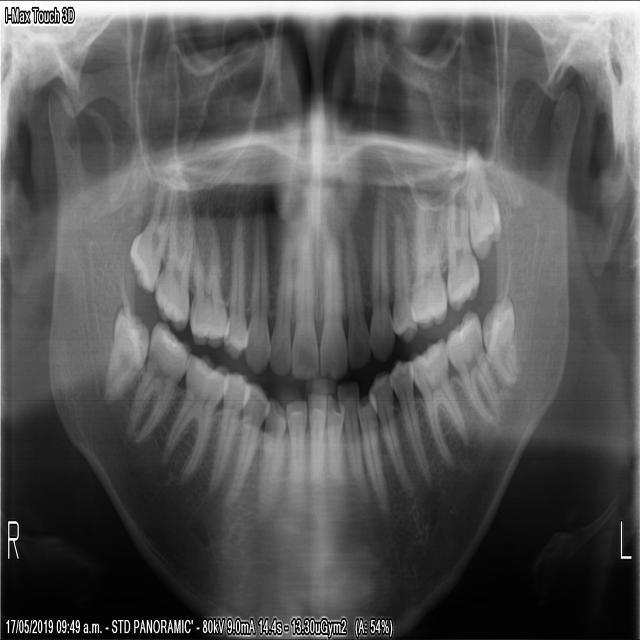LCD: (353, 388, 390, 523)
LCU: (366, 185, 397, 364)
LID: (334, 373, 369, 510), (323, 389, 344, 493)
LIU: (317, 228, 350, 386), (341, 221, 371, 374)
LMD: (405, 329, 472, 472), (441, 304, 504, 434), (477, 284, 525, 394)
LMU: (407, 185, 448, 334), (442, 182, 482, 315), (461, 151, 503, 263)
LPMD: (365, 364, 415, 502), (386, 351, 433, 489)
LPMU: (388, 203, 419, 347)
RCD: (252, 391, 288, 522)
RCU: (241, 206, 271, 376)
RID: (284, 389, 309, 503), (304, 386, 327, 499)
RIU: (288, 211, 318, 385), (265, 209, 293, 383)
RMD: (157, 346, 230, 494), (121, 314, 193, 448), (97, 298, 149, 414)
RMU: (150, 180, 196, 334), (124, 174, 174, 301), (185, 211, 229, 353)
RPMD: (219, 376, 270, 515), (206, 365, 252, 500)
RPMU: (220, 207, 249, 368)
